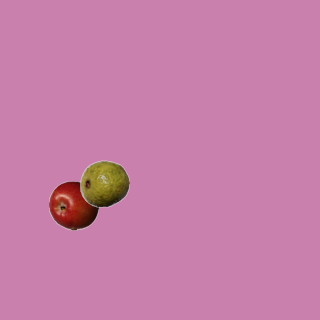Apple Braeburn: (48, 180, 98, 230)
Guava: (79, 158, 129, 208)
